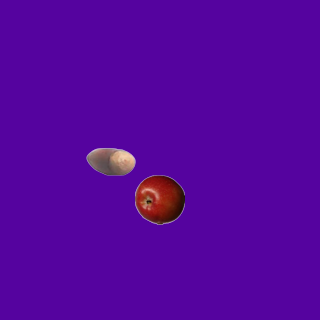Apple Braeburn: (134, 174, 184, 224)
Hazelnut: (85, 136, 135, 186)
